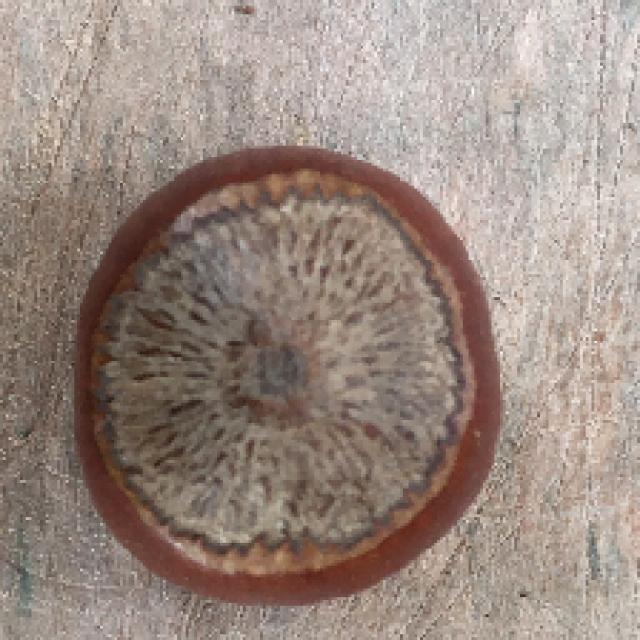qualityHazelnut: (70, 141, 498, 610)
